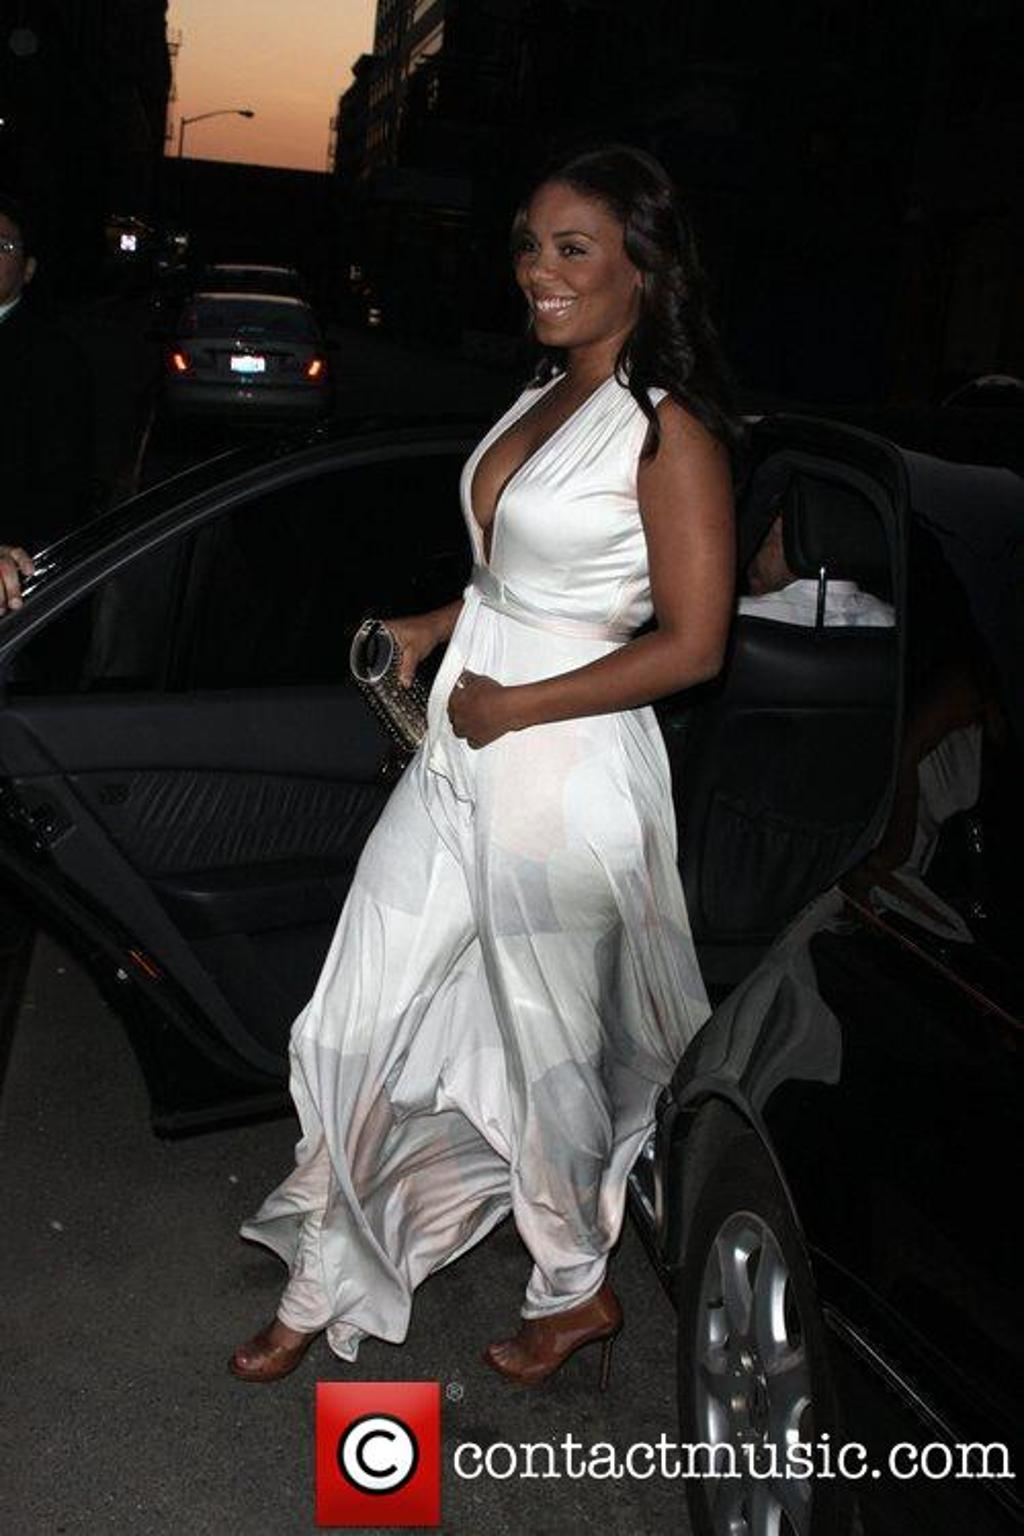face: (504, 183, 633, 348)
